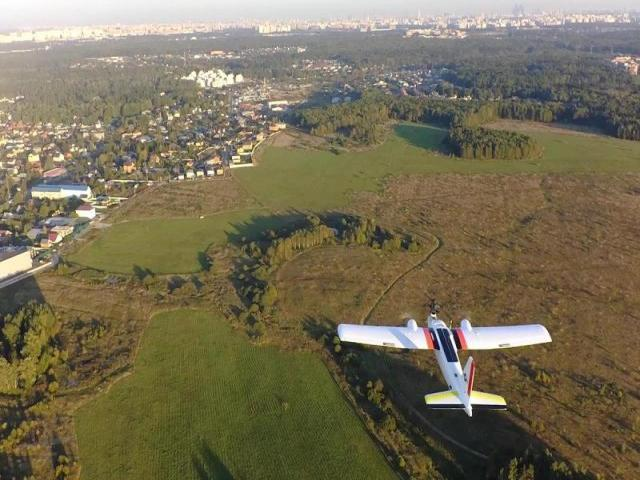hedef: (330, 291, 561, 423)
